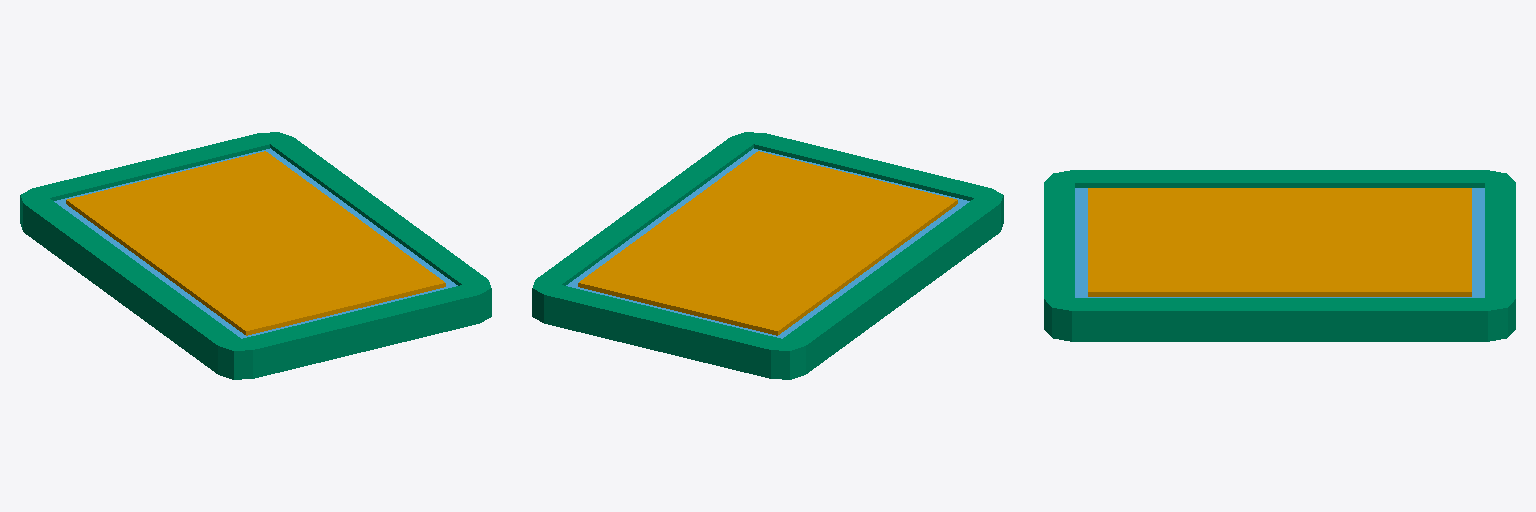
robot.urdf — cutting_board:
<?xml version="1.0"?>
<robot name="cutting_board">
  <link name="base">
    <inertial>
        <origin rpy="0 0 0" xyz="0 0 0"/>
        <mass value="0.1"/>
        <inertia ixx="4.4e-5" ixy="0" ixz="0" iyy="0" iyz="0" izz="4.4e-5"/>
    </inertial>
    <visual>
      <geometry>
        <mesh filename="base.obj"/>
      </geometry>
    </visual>
    <collision>
      <geometry>
        <mesh filename="base.obj"/>
      </geometry>
      <surface>
           <bounce restitution_coefficient = "0.1"/>
      </surface>
    </collision>
  </link>
  <link name="pit">
    <inertial>
        <origin rpy="0 0 0" xyz="0 0 0"/>
        <mass value="0.1"/>
        <inertia ixx="4.4e-5" ixy="0" ixz="0" iyy="0" iyz="0" izz="4.4e-5"/>
    </inertial>
    <visual>
      <geometry>
        <mesh filename="pit.obj"/>
      </geometry>
    </visual>
    <collision>
      <geometry>
        <mesh filename="pit.obj"/>
      </geometry>
      <surface>
           <bounce restitution_coefficient = "0.1"/>
      </surface>
    </collision>
  </link>
  <link name="edge">
    <inertial>
        <origin rpy="0 0 0" xyz="0 0 0"/>
        <mass value="0.1"/>
        <inertia ixx="4.4e-5" ixy="0" ixz="0" iyy="0" iyz="0" izz="4.4e-5"/>
    </inertial>
    <visual>
      <geometry>
        <mesh filename="edge.obj"/>
      </geometry>
    </visual>
    <collision>
      <geometry>
        <mesh filename="edge.obj"/>
      </geometry>
      <surface>
           <bounce restitution_coefficient = "0.1"/>
      </surface>
    </collision>
  </link>
  <joint name="base_to_pit" type="fixed">
    <parent link="base"/>
    <child link="pit"/>
    <origin rpy="0 0 0" xyz="0 0 0"/>
  </joint>
  <joint name="base_to_edge" type="fixed">
    <parent link="base"/>
    <child link="edge"/>
    <origin rpy="0 0 0" xyz="0 0 0"/>
  </joint>
</robot>

--- Render facts (derived) ---
3 views of the same robot in one strip: view 1: azimuth 30°, elevation 25°; view 2: azimuth 150°, elevation 25°; view 3: azimuth 270°, elevation 25° (orthographic).
Model cutting_board with 3 links and 2 joints (2 fixed), rooted at base, posed all joints at 0.
Visible links, largest first — view 1: base, edge, pit; view 2: base, edge, pit; view 3: base, edge, pit.
Link boxes in pixels (x1,y1,x2,y2): base: (66,151,445,335); edge: (20,132,491,379); pit: (54,148,457,338); base: (578,151,957,335); edge: (532,132,1003,379); pit: (566,148,969,338); base: (1088,188,1471,296); edge: (1044,170,1515,341); pit: (1075,188,1484,297).
Size in the robot's own frame: 0.435 by 0.615 by 0.0453 metres.
3 mesh visuals loaded from 3 distinct referenced files (3 OBJ).
